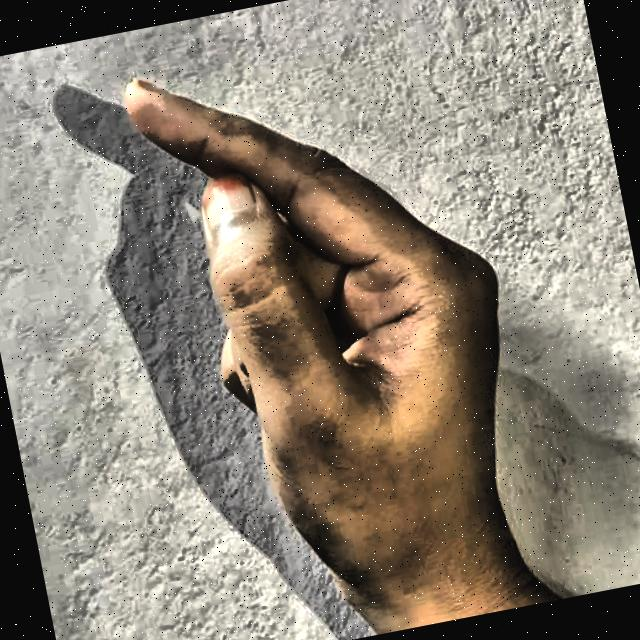Tha: (80, 0, 592, 640)
